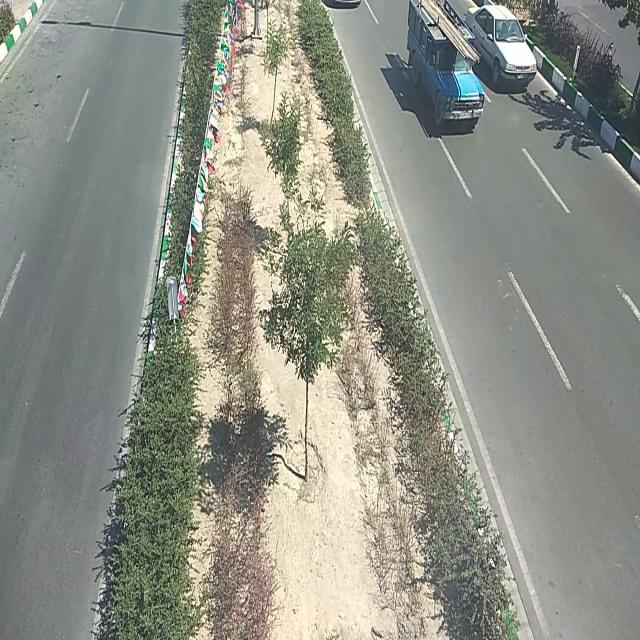car: (407, 0, 483, 135), (466, 6, 536, 89)
